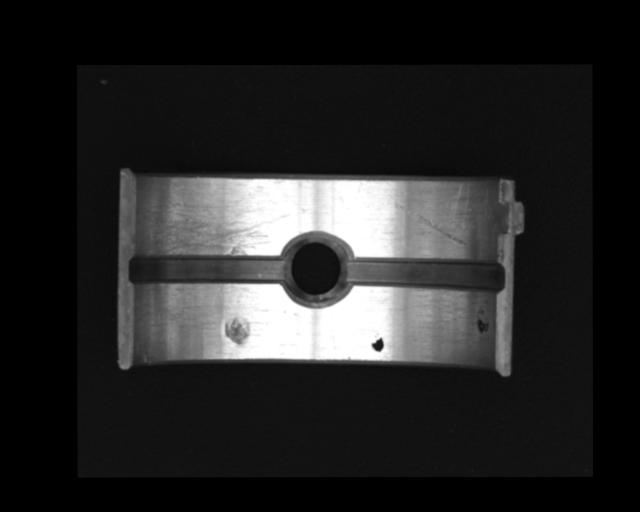blot: (475, 306, 490, 335), (370, 332, 385, 353)
bruise: (223, 316, 251, 346)
gap: (342, 256, 505, 294), (129, 253, 287, 286)
hole: (281, 233, 351, 305)
nick: (392, 201, 468, 247)
scratch: (143, 192, 289, 255)
